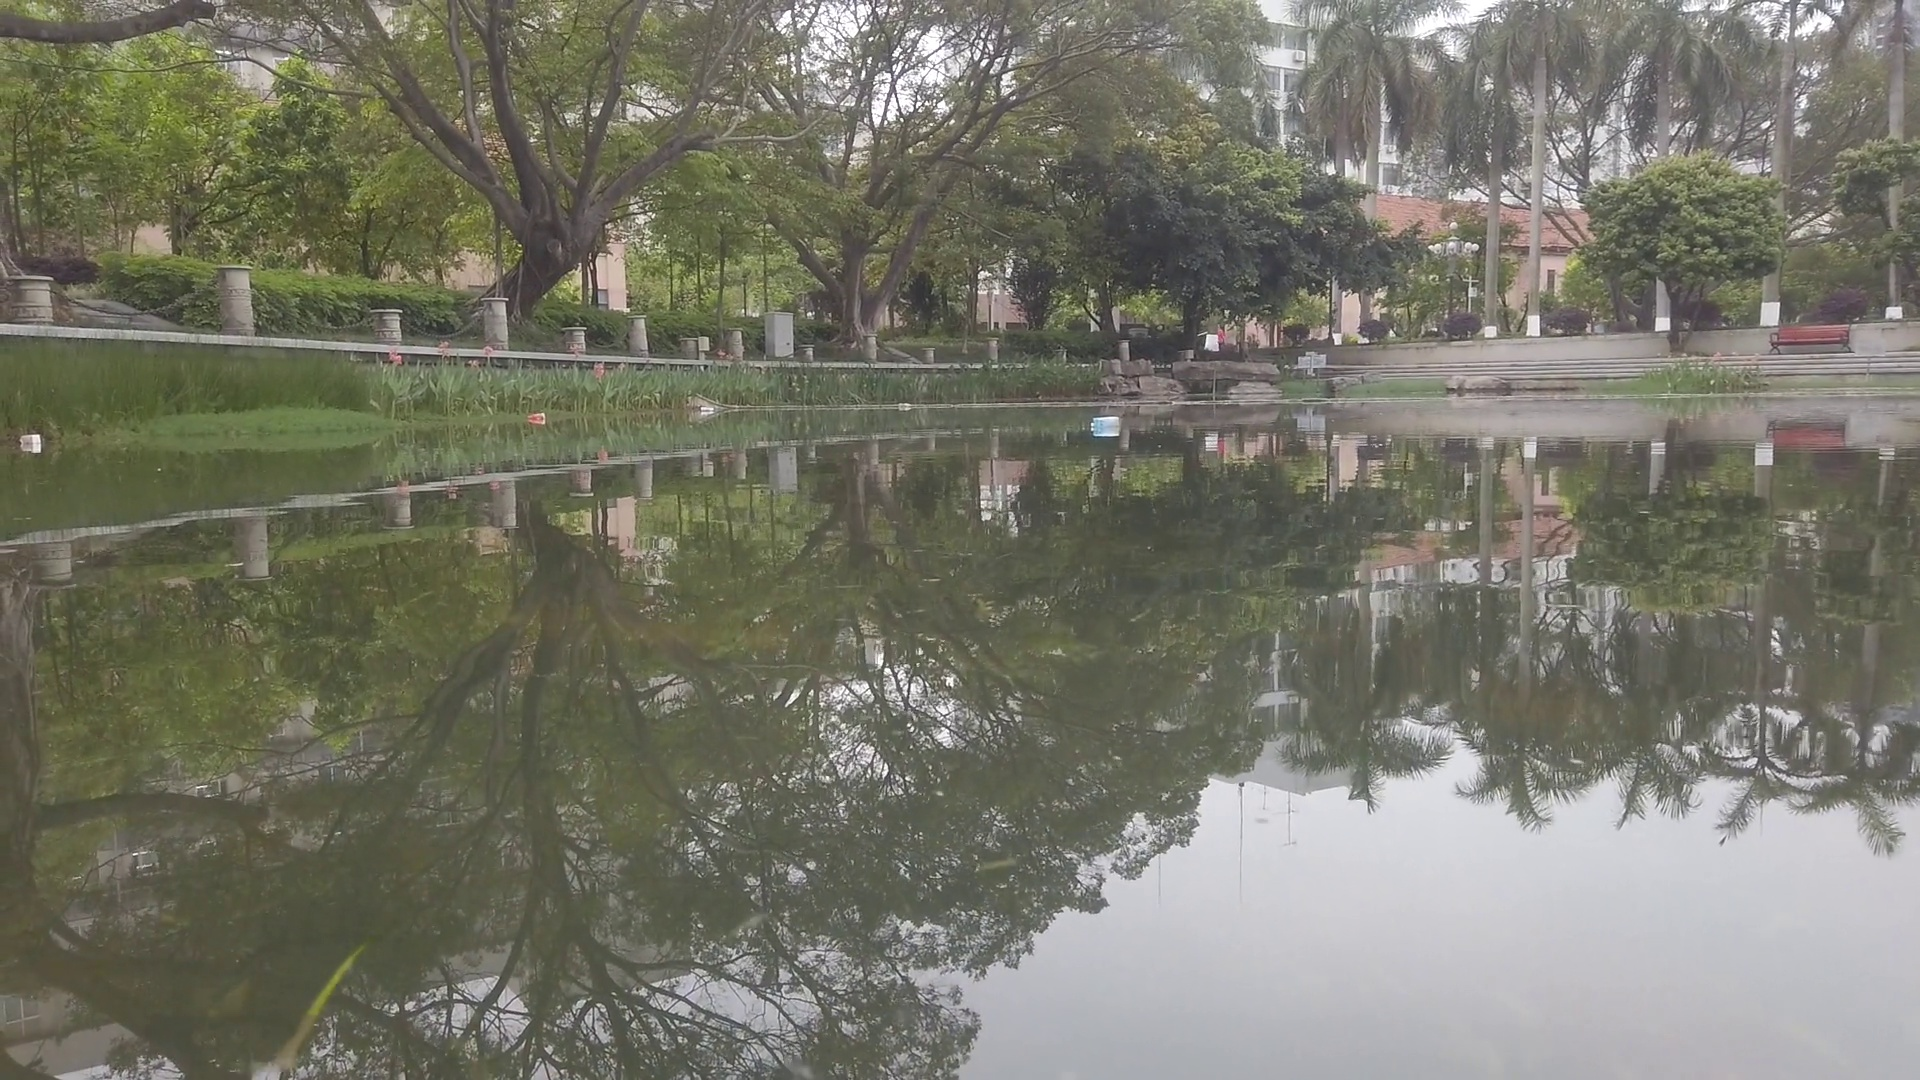bottle: (527, 411, 545, 421), (897, 401, 914, 410), (700, 407, 716, 414)
carton: (1091, 418, 1122, 433), (22, 433, 42, 444)
